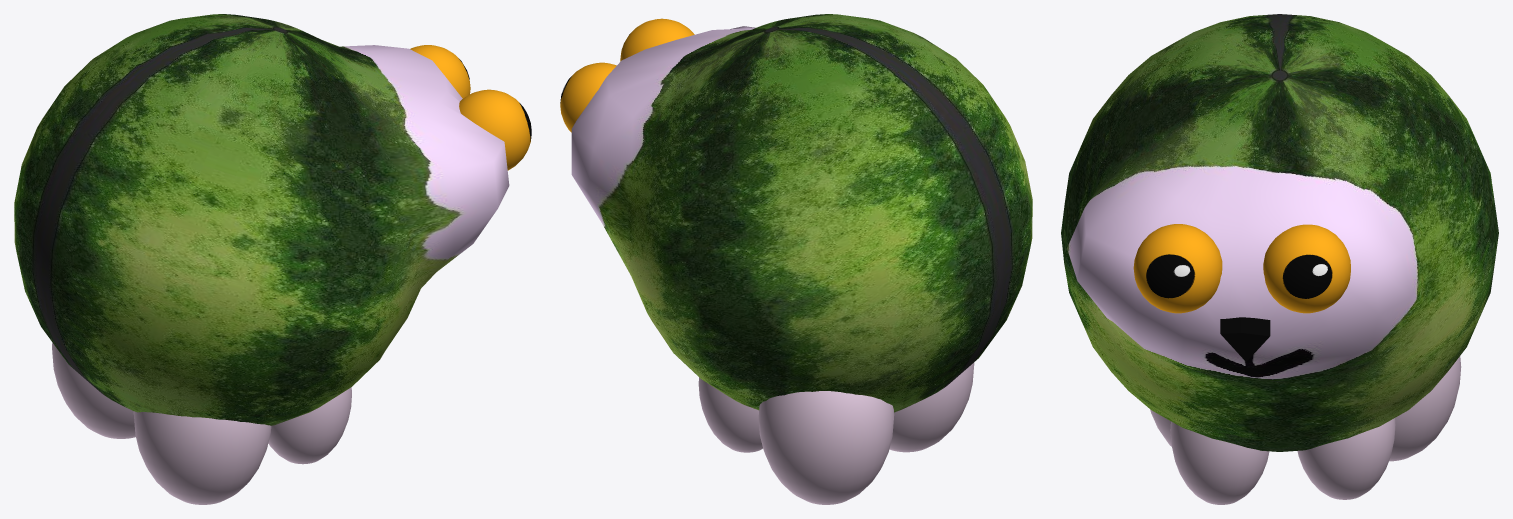
Rendered from моделька.fbx.
The picture shows the model from 3 angles, left to right: view 1: azimuth 30°, elevation 25°; view 2: azimuth 150°, elevation 25°; view 3: azimuth 270°, elevation 25°; orthographic projection. The views are drawn at different scales.
Parts seen in each view (by area): view 1: Сфера, Сфера.003, Сфера.006, Сфера.004, Сфера.001, Сфера.002; view 2: Сфера, Сфера.004, Сфера.003, Сфера.005, Сфера.002, Сфера.001; view 3: Сфера, Сфера.001, Сфера.002, Сфера.006, Сфера.005, Сфера.004, Куб.
Part boxes in pixels (<box>): Сфера: <box>14,14,509,425</box>; Сфера.003: <box>133,411,271,504</box>; Сфера.006: <box>268,387,351,464</box>; Сфера.004: <box>52,342,135,438</box>; Сфера.001: <box>459,89,531,170</box>; Сфера.002: <box>410,45,470,98</box>; Сфера: <box>571,14,1032,412</box>; Сфера.004: <box>758,391,894,504</box>; Сфера.003: <box>889,362,974,452</box>; Сфера.005: <box>698,377,762,452</box>; Сфера.002: <box>560,62,616,132</box>; Сфера.001: <box>620,18,694,61</box>; Сфера: <box>1061,14,1498,451</box>; Сфера.001: <box>1133,224,1222,313</box>; Сфера.002: <box>1263,224,1350,313</box>; Сфера.006: <box>1170,421,1269,504</box>; Сфера.005: <box>1297,418,1395,499</box>; Сфера.004: <box>1389,356,1461,461</box>; Куб: <box>1220,317,1270,361</box>.
Size of the model in its own units: 247 by 228 by 200.
4 materials, 2 textured.
